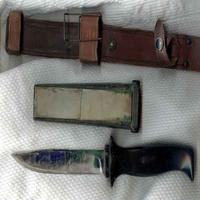knife: (8, 134, 200, 188)
